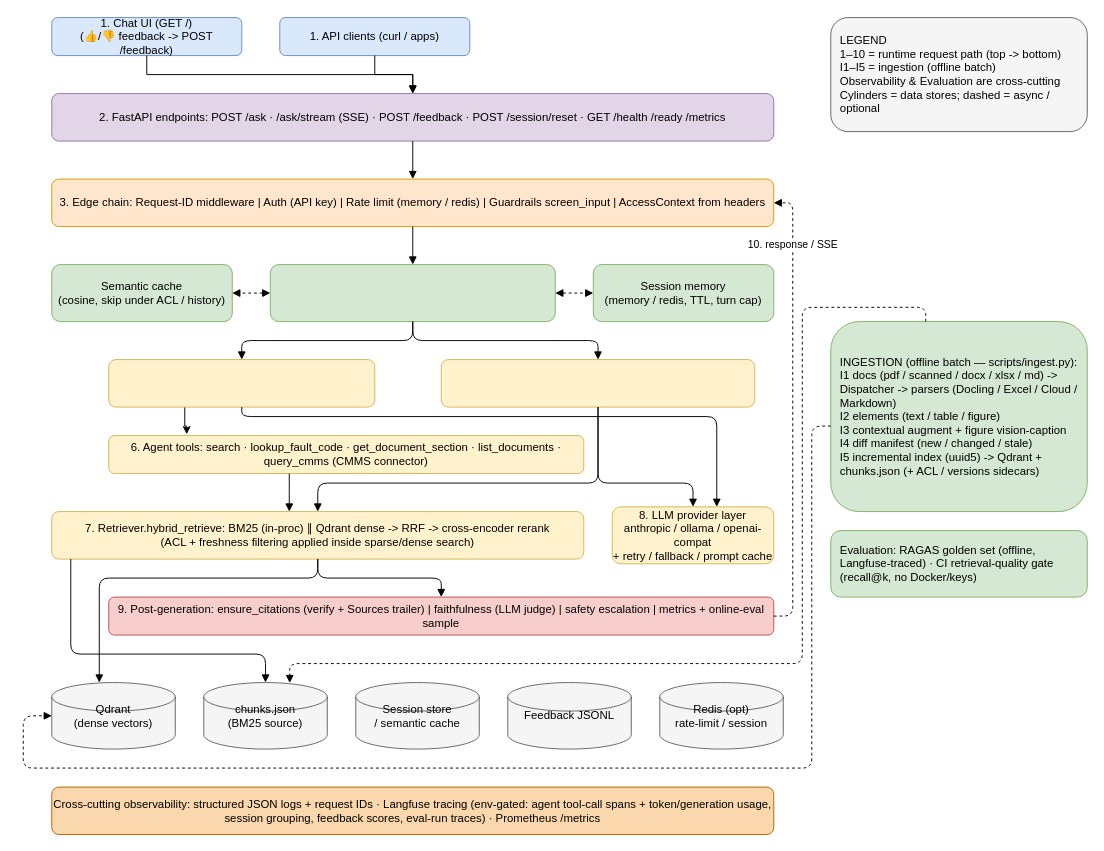
The diagram is 1104 pixels wide and 851 high, and some of its shapes have lost their labels. Here are the shapes that lost their labels. From the top down, the centre of each, then its label:
(x=412, y=293): 4. Orchestrator.run / stream (dispatch by AGENT_MODE)
(x=241, y=383): 5. Agent loop (tool-calling) LLM reasons + calls tools, loops
(x=597, y=383): 5. CRAG pipeline (LangGraph) rewrite -> retrieve -> grade -> (retry) -> generate
